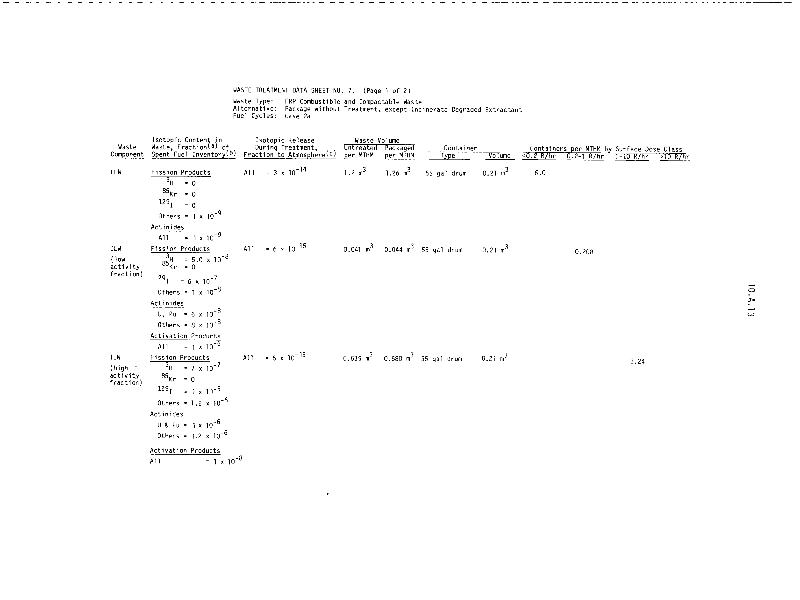table: (108, 127, 709, 493)
